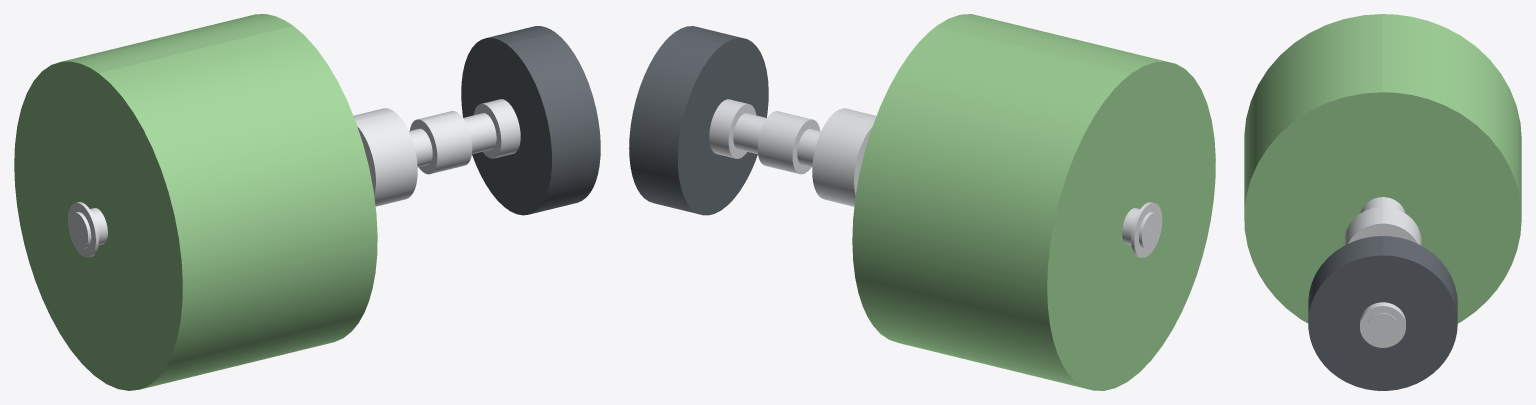
3 renders of one model, left to right at view 1: azimuth 30°, elevation 25°; view 2: azimuth 150°, elevation 25°; view 3: azimuth 270°, elevation 25°, orthographic. The views are drawn at different scales.
Visible parts, largest first — view 1: part_0, part_2, part_1; view 2: part_0, part_2, part_1; view 3: part_0, part_2, part_1.
Part boxes in pixels (x1=…): part_0: x1=14, y1=14, x2=377, y2=390; part_2: x1=461, y1=26, x2=600, y2=215; part_1: x1=68, y1=99, x2=520, y2=257; part_0: x1=852, y1=14, x2=1215, y2=390; part_2: x1=629, y1=26, x2=768, y2=215; part_1: x1=709, y1=99, x2=1162, y2=257; part_0: x1=1244, y1=14, x2=1521, y2=323; part_2: x1=1308, y1=236, x2=1457, y2=390; part_1: x1=1344, y1=197, x2=1421, y2=347.
Size of the model in its own units: 0.12 by 0.072 by 0.072.
